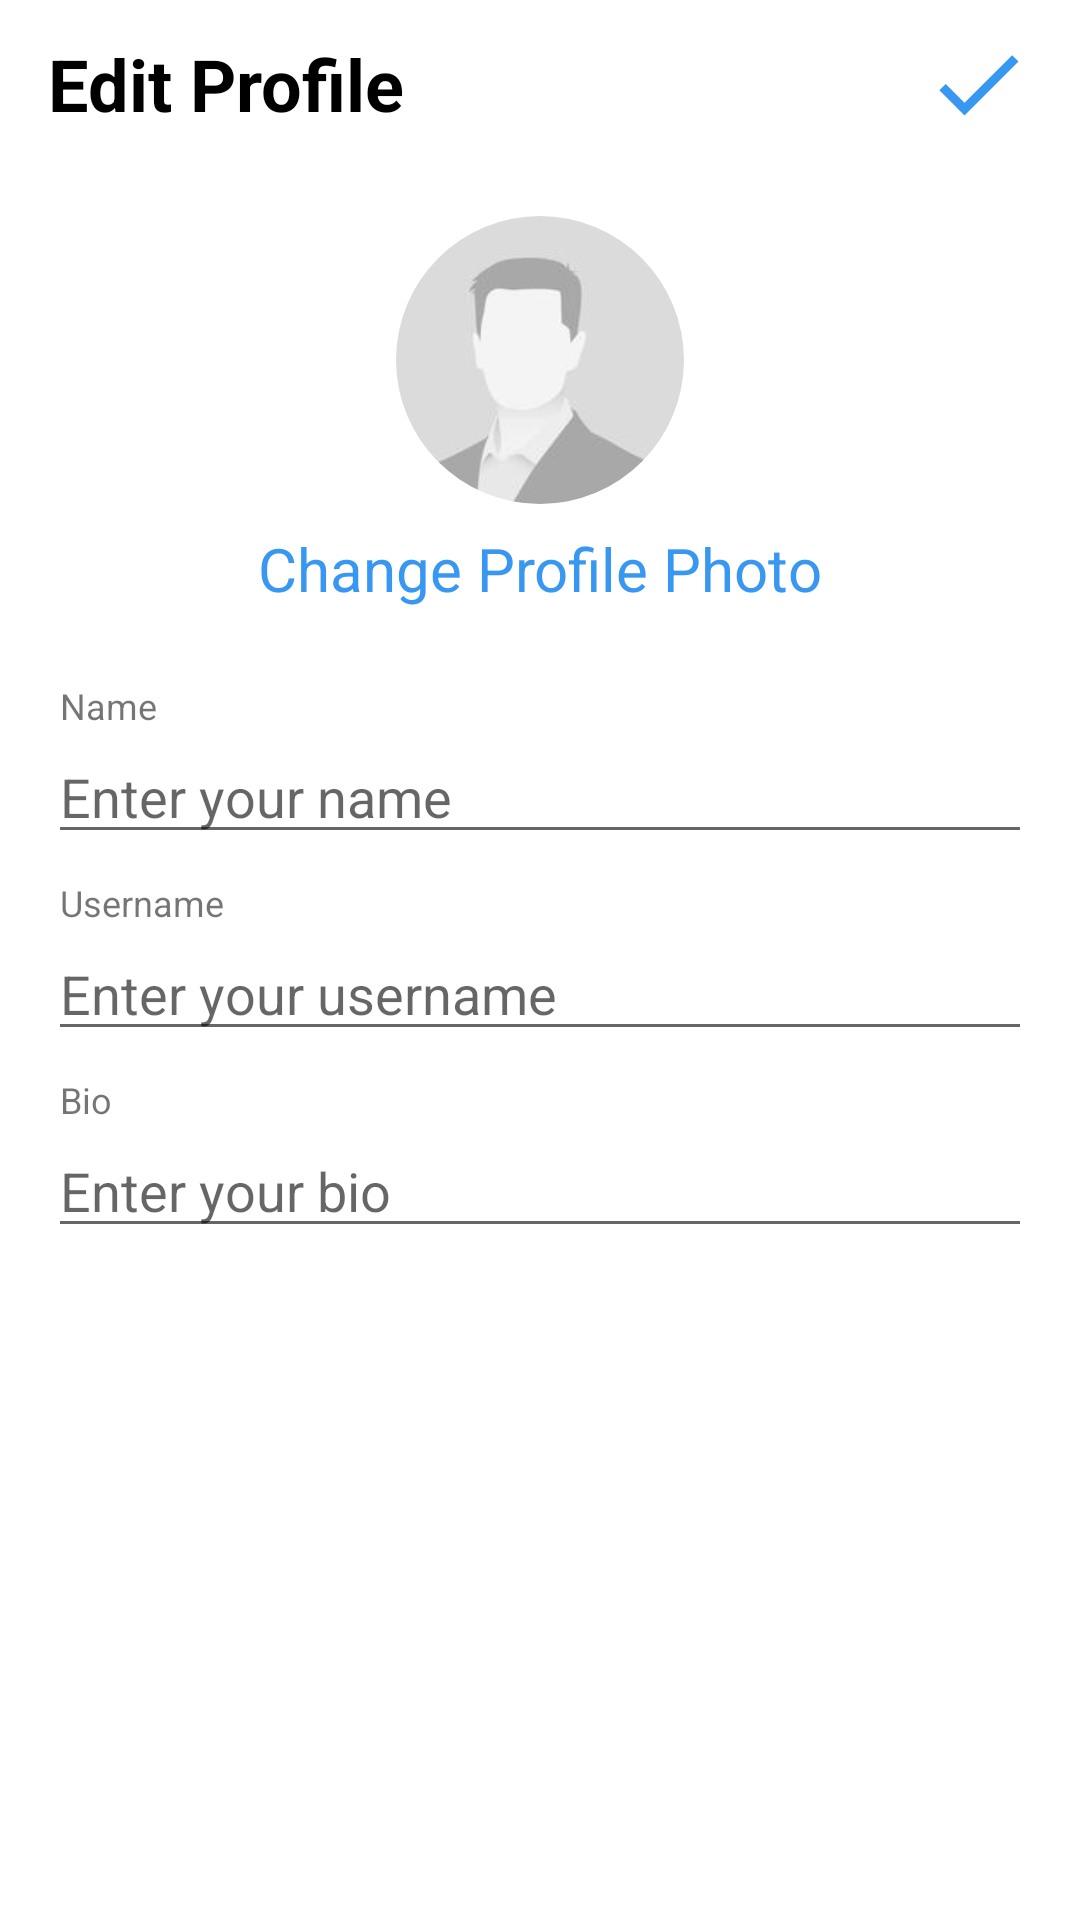

Locate icon controls on the screen. Image size 1080 × 1920, boxes as (x1, y1, x2, y2).
check: (939, 55, 1019, 116)
